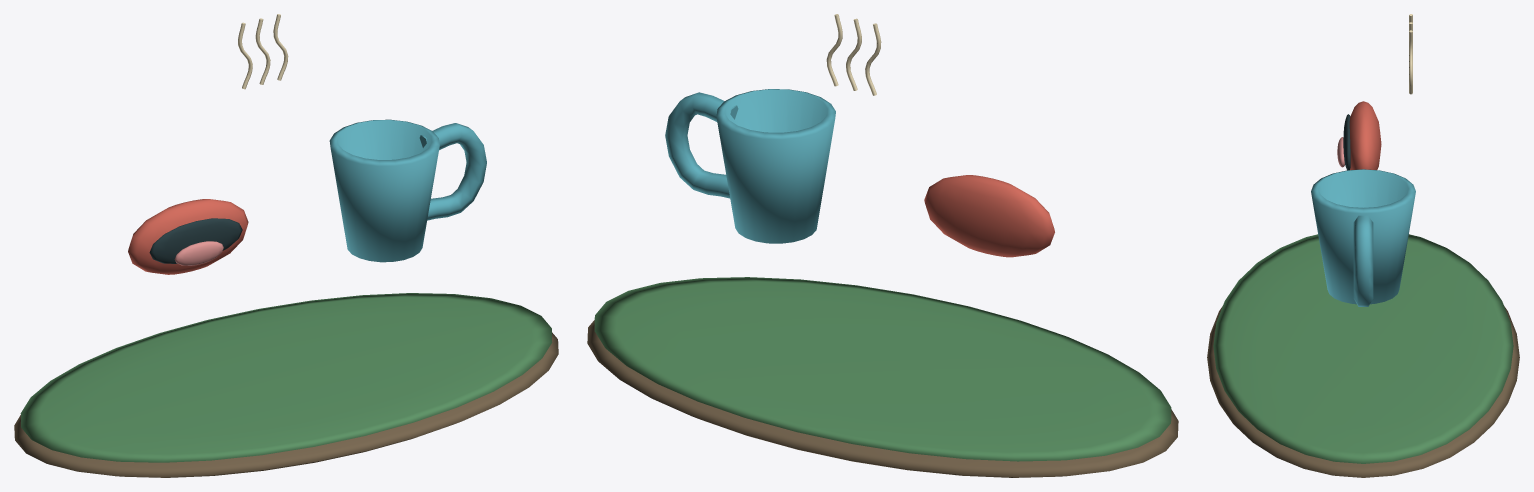
Rendered from complete-third-cough-and-gargle.glb.
The picture shows the model from 3 angles, left to right: view 1: azimuth 30°, elevation 25°; view 2: azimuth 150°, elevation 25°; view 3: azimuth 270°, elevation 25°; orthographic projection. The views are drawn at different scales.
Parts seen in each view (by area): view 1: complete-third-cough-and-gargle_surface_01, complete-third-cough-and-gargle_surface_05, complete-third-cough-and-gargle_surface_00, complete-third-cough-and-gargle_surface_02, complete-third-cough-and-gargle_surface_03, complete-third-cough-and-gargle_surface_06, complete-third-cough-and-gargle_surface_04; view 2: complete-third-cough-and-gargle_surface_01, complete-third-cough-and-gargle_surface_05, complete-third-cough-and-gargle_surface_00, complete-third-cough-and-gargle_surface_02, complete-third-cough-and-gargle_surface_06; view 3: complete-third-cough-and-gargle_surface_01, complete-third-cough-and-gargle_surface_05, complete-third-cough-and-gargle_surface_00, complete-third-cough-and-gargle_surface_02, complete-third-cough-and-gargle_surface_03.
Part boxes in pixels (x1=…): complete-third-cough-and-gargle_surface_01: x1=20, y1=293, x2=552, y2=462; complete-third-cough-and-gargle_surface_05: x1=329, y1=119, x2=486, y2=262; complete-third-cough-and-gargle_surface_00: x1=14, y1=332, x2=558, y2=477; complete-third-cough-and-gargle_surface_02: x1=128, y1=199, x2=248, y2=274; complete-third-cough-and-gargle_surface_03: x1=149, y1=218, x2=242, y2=263; complete-third-cough-and-gargle_surface_06: x1=238, y1=14, x2=288, y2=89; complete-third-cough-and-gargle_surface_04: x1=174, y1=241, x2=223, y2=265; complete-third-cough-and-gargle_surface_01: x1=594, y1=277, x2=1171, y2=461; complete-third-cough-and-gargle_surface_05: x1=665, y1=89, x2=835, y2=243; complete-third-cough-and-gargle_surface_00: x1=587, y1=320, x2=1178, y2=477; complete-third-cough-and-gargle_surface_02: x1=924, y1=175, x2=1054, y2=257; complete-third-cough-and-gargle_surface_06: x1=826, y1=14, x2=881, y2=95; complete-third-cough-and-gargle_surface_01: x1=1213, y1=234, x2=1513, y2=463; complete-third-cough-and-gargle_surface_05: x1=1311, y1=169, x2=1415, y2=306; complete-third-cough-and-gargle_surface_00: x1=1207, y1=306, x2=1519, y2=477; complete-third-cough-and-gargle_surface_02: x1=1349, y1=101, x2=1381, y2=170; complete-third-cough-and-gargle_surface_03: x1=1343, y1=114, x2=1350, y2=170.
Bounding box in the file's own units: 4.56 × 3.08 × 2.5.
